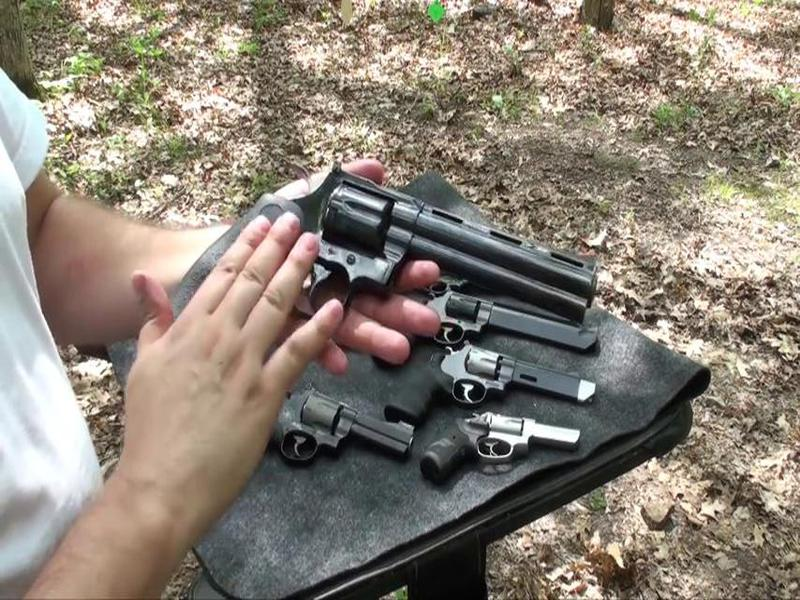Revolver: (169, 145, 638, 381)
